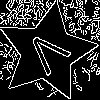V: (22, 27, 79, 84)
